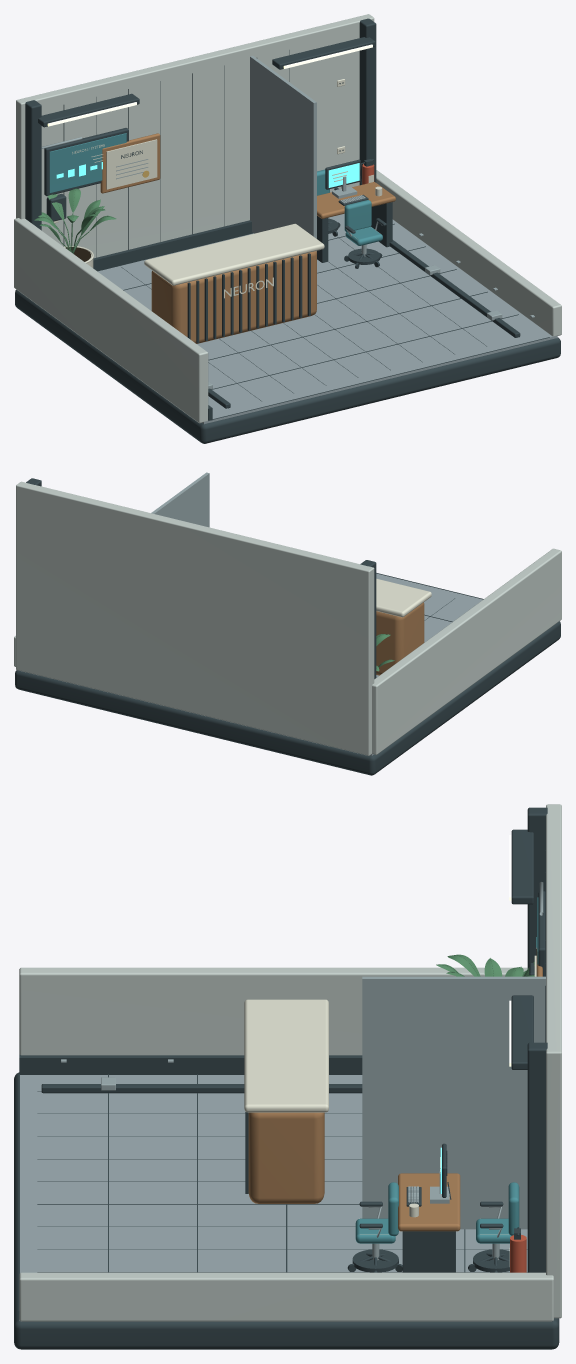
3 views of the same model, one above another, from view 1: azimuth 30°, elevation 25°; view 2: azimuth 150°, elevation 25°; view 3: azimuth 270°, elevation 25° (orthographic). The views are drawn at different scales.
Parts seen in each view (by area): view 1: SM_hq_02_painted_plaster, SM_hq_01_mineral_floor, SM_hq_03_charcoal_steel, SM_hq_04_brushed_alloy, SM_hq_05_warm_oak, SM_hq_06_ivory, SM_hq_08_glass, SM_hq_Foliage, SM_hq_12_screen, SM_hq_07_illumination; view 2: SM_hq_02_painted_plaster, SM_hq_03_charcoal_steel, SM_hq_05_warm_oak, SM_hq_01_mineral_floor, SM_hq_04_brushed_alloy, SM_hq_06_ivory; view 3: SM_hq_02_painted_plaster, SM_hq_01_mineral_floor, SM_hq_03_charcoal_steel, SM_hq_04_brushed_alloy, SM_hq_05_warm_oak, SM_hq_06_ivory, SM_hq_08_glass, SM_hq_Foliage.
Boxes of the visible parts, x1=… form: SM_hq_02_painted_plaster: x1=14, y1=14, x2=561, y2=423; SM_hq_01_mineral_floor: x1=97, y1=213, x2=557, y2=424; SM_hq_03_charcoal_steel: x1=15, y1=18, x2=560, y2=443; SM_hq_04_brushed_alloy: x1=41, y1=55, x2=534, y2=389; SM_hq_05_warm_oak: x1=100, y1=133, x2=395, y2=343; SM_hq_06_ivory: x1=53, y1=79, x2=382, y2=298; SM_hq_08_glass: x1=49, y1=133, x2=382, y2=245; SM_hq_Foliage: x1=34, y1=188, x2=116, y2=263; SM_hq_12_screen: x1=56, y1=162, x2=359, y2=187; SM_hq_07_illumination: x1=47, y1=44, x2=372, y2=126; SM_hq_02_painted_plaster: x1=14, y1=481, x2=561, y2=755; SM_hq_03_charcoal_steel: x1=15, y1=478, x2=560, y2=775; SM_hq_05_warm_oak: x1=376, y1=602, x2=424, y2=675; SM_hq_01_mineral_floor: x1=370, y1=573, x2=482, y2=755; SM_hq_04_brushed_alloy: x1=151, y1=472, x2=209, y2=527; SM_hq_06_ivory: x1=376, y1=578, x2=431, y2=617; SM_hq_02_painted_plaster: x1=19, y1=804, x2=561, y2=1321; SM_hq_01_mineral_floor: x1=19, y1=1075, x2=553, y2=1320; SM_hq_03_charcoal_steel: x1=14, y1=807, x2=559, y2=1349; SM_hq_04_brushed_alloy: x1=61, y1=882, x2=545, y2=1260; SM_hq_05_warm_oak: x1=248, y1=949, x2=542, y2=1231; SM_hq_06_ivory: x1=244, y1=948, x2=536, y2=1266; SM_hq_08_glass: x1=355, y1=897, x2=538, y2=1243; SM_hq_Foliage: x1=436, y1=954, x2=534, y2=976.
Bounding box in the file's own units: 6.78 × 3.68 × 6.15.
